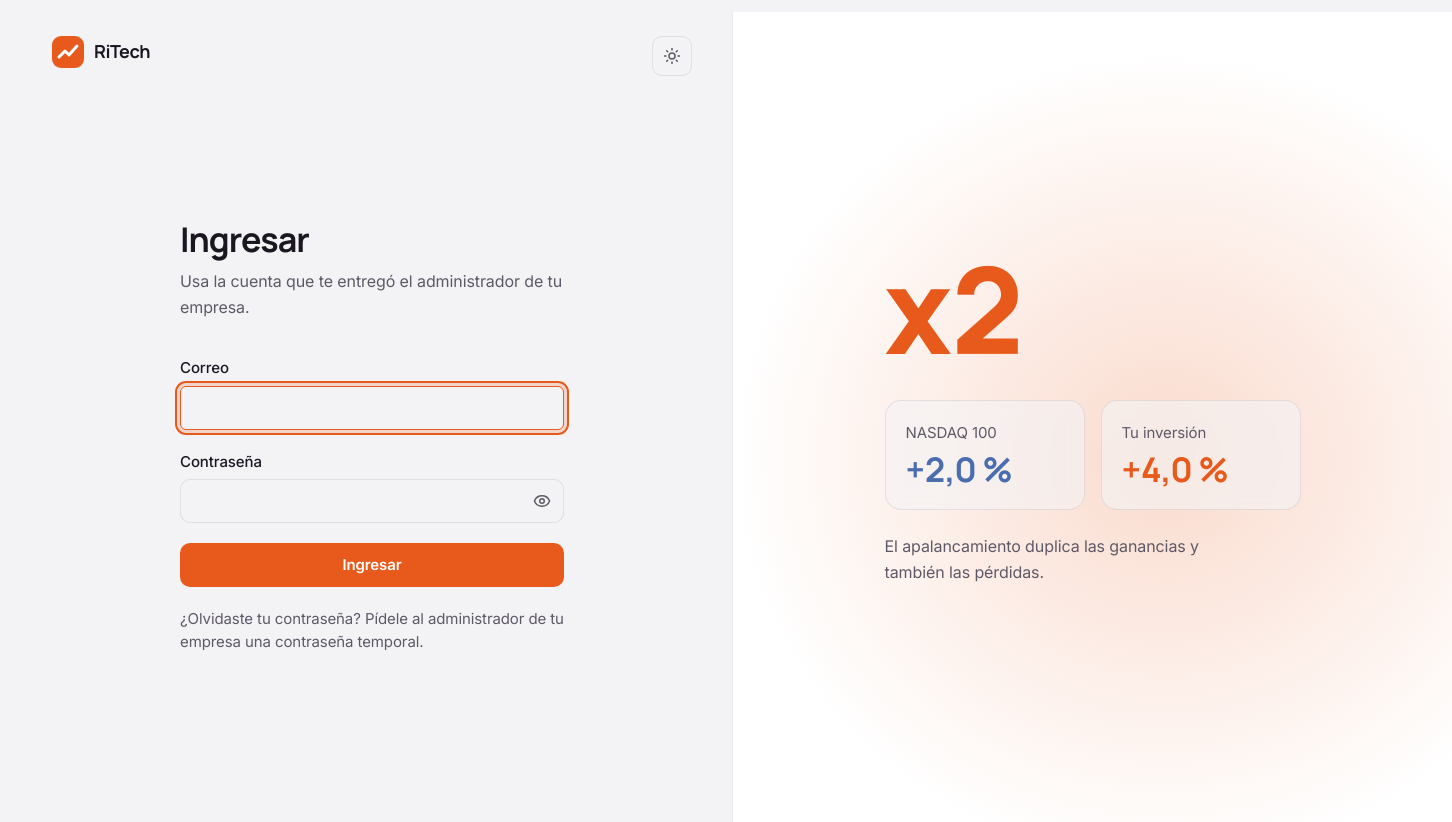
Scenario: Login › con contraseña temporal lleva a cambiarla
In the field labelled "Correo": (372, 408) [180,386,564,430], type "ana@empresa.com"
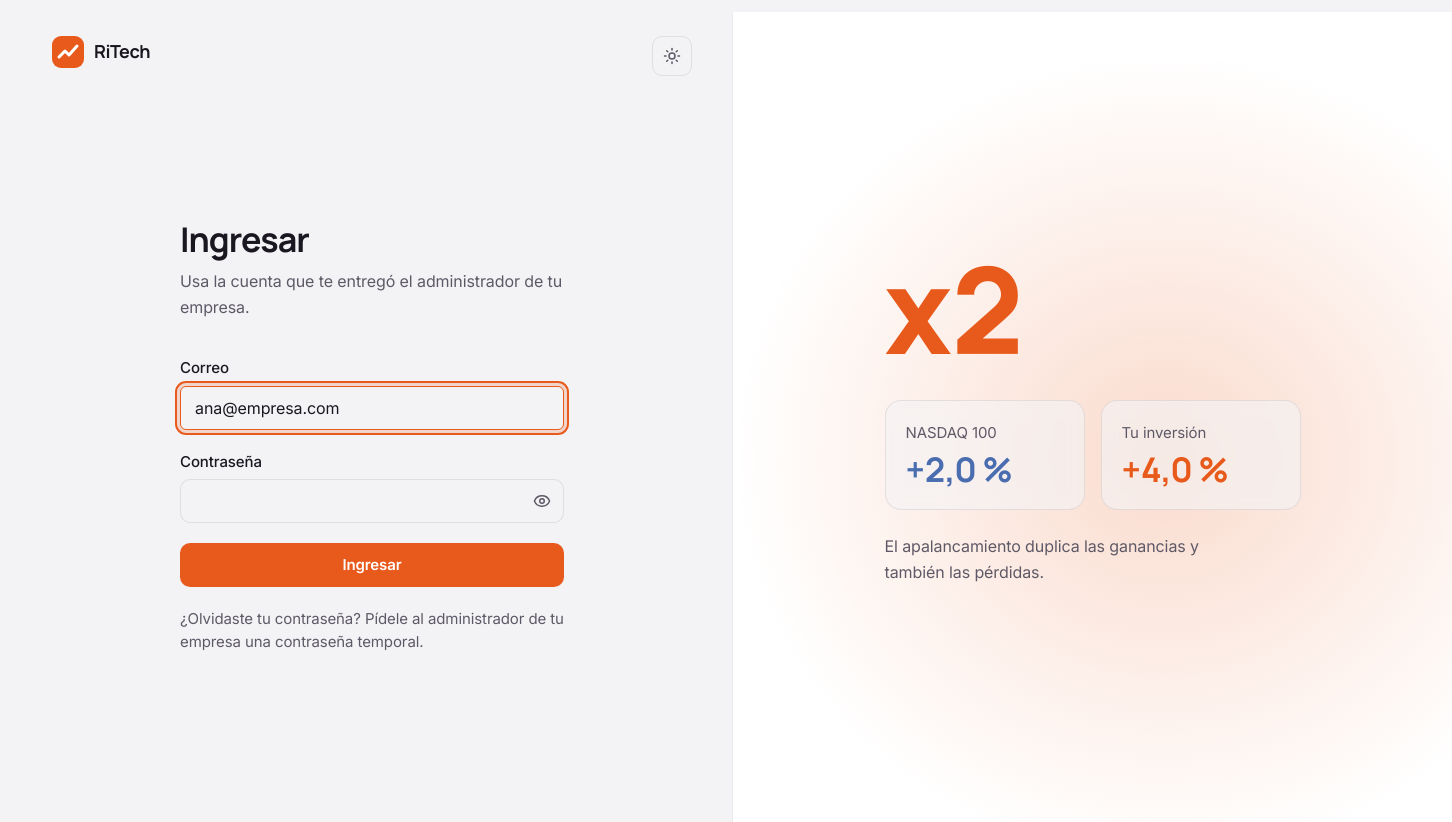
In the password field labelled "Contraseña": (372, 501) [180,479,564,523], type "temporal-123"
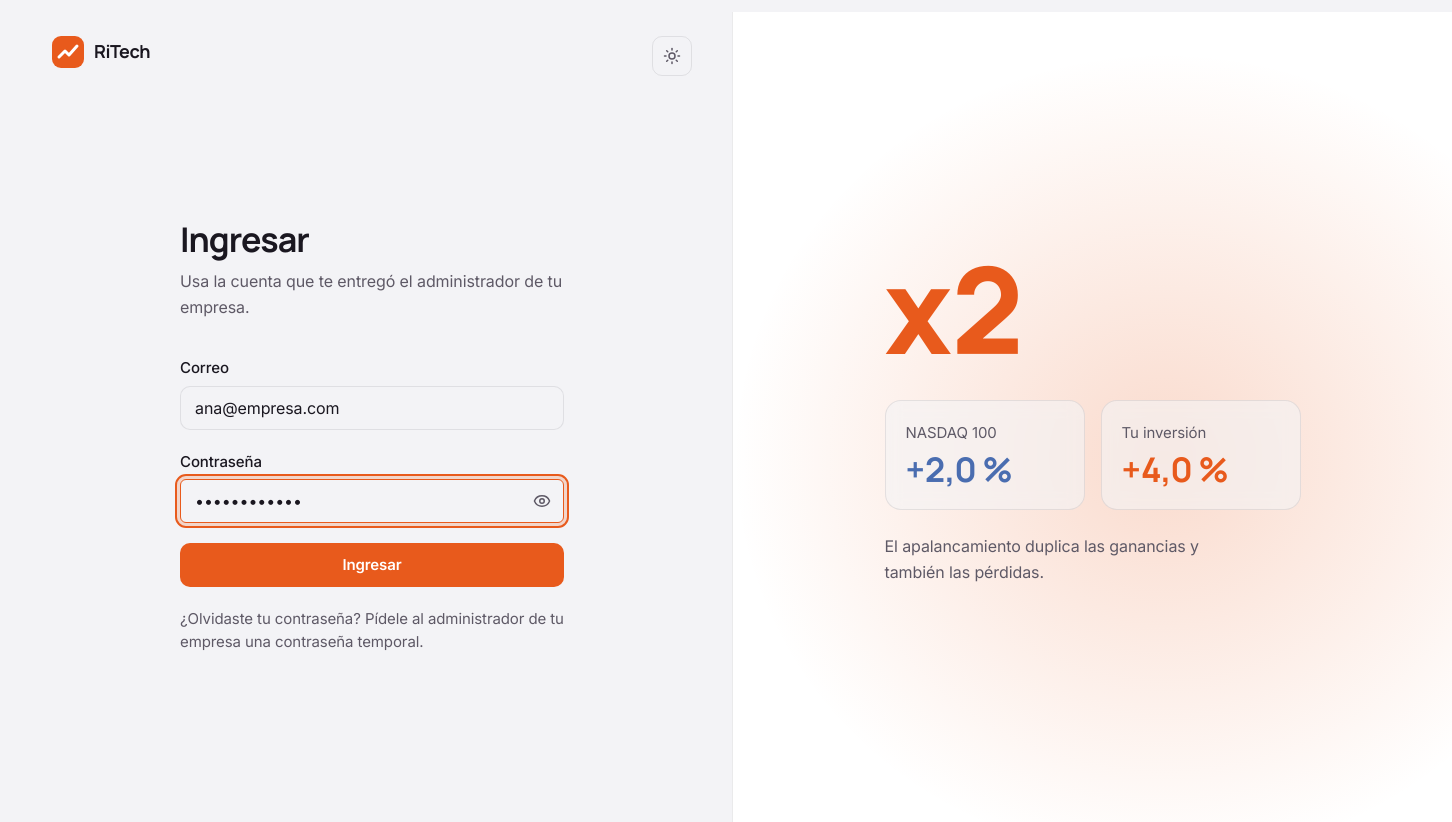
Click the button "Ingresar": (372, 565) [180,543,564,587]
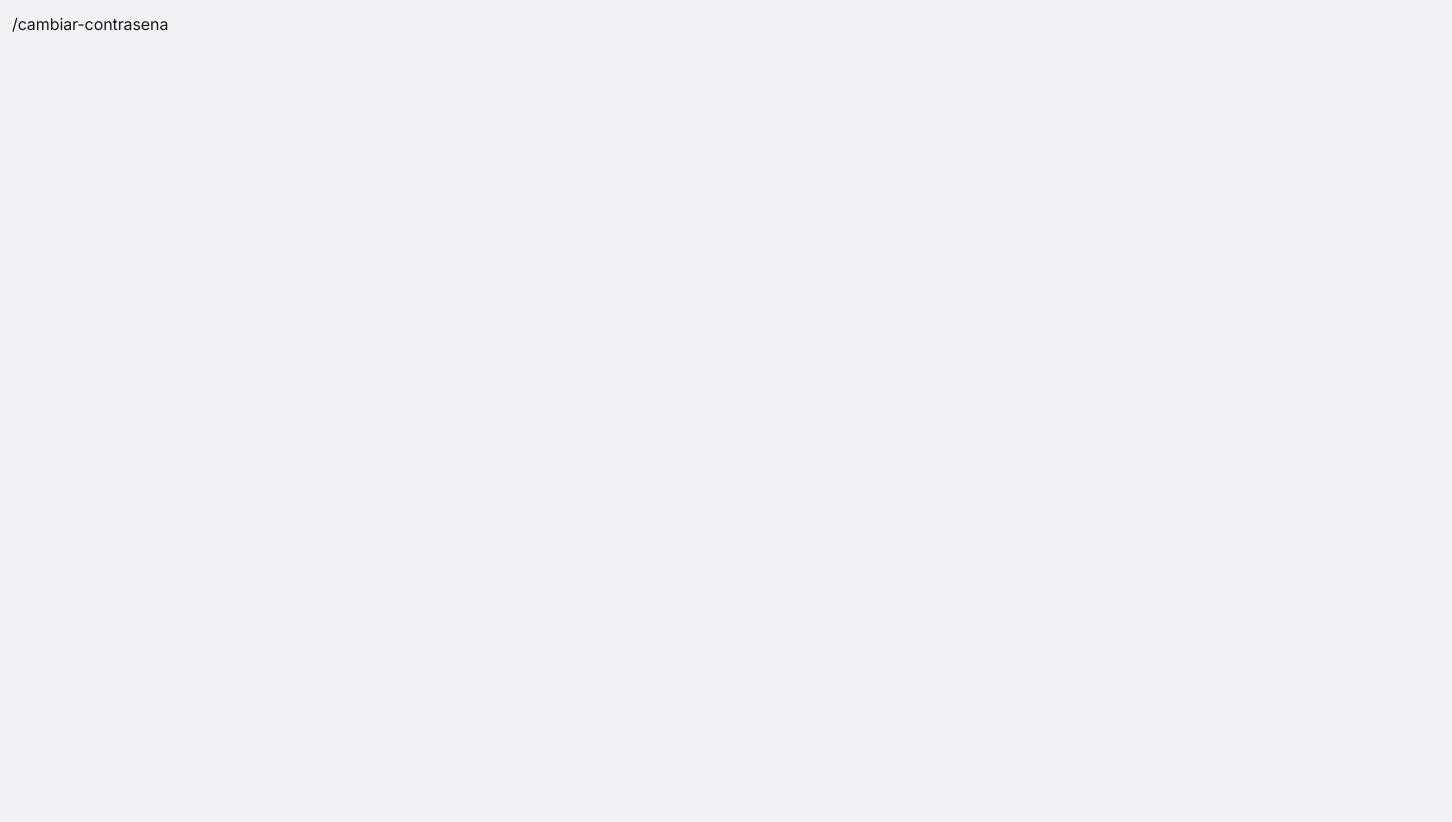
Expected: the text with test id "where" reads "/cambiar-contrasena", [12,14,168,34]
